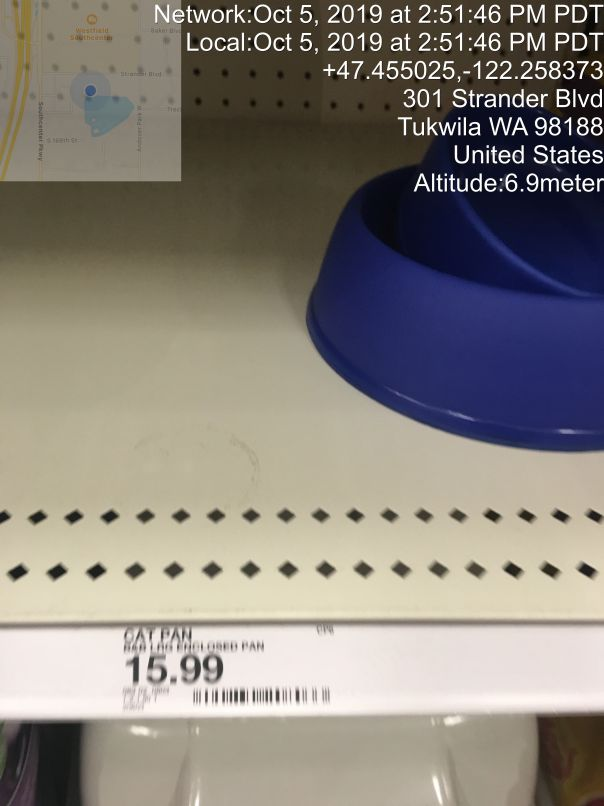Cat Pan: (338, 89, 604, 469)
Label: (108, 625, 343, 716)
Location: (389, 83, 604, 172)
Time: (151, 2, 604, 59)
Void: (21, 74, 325, 560)
